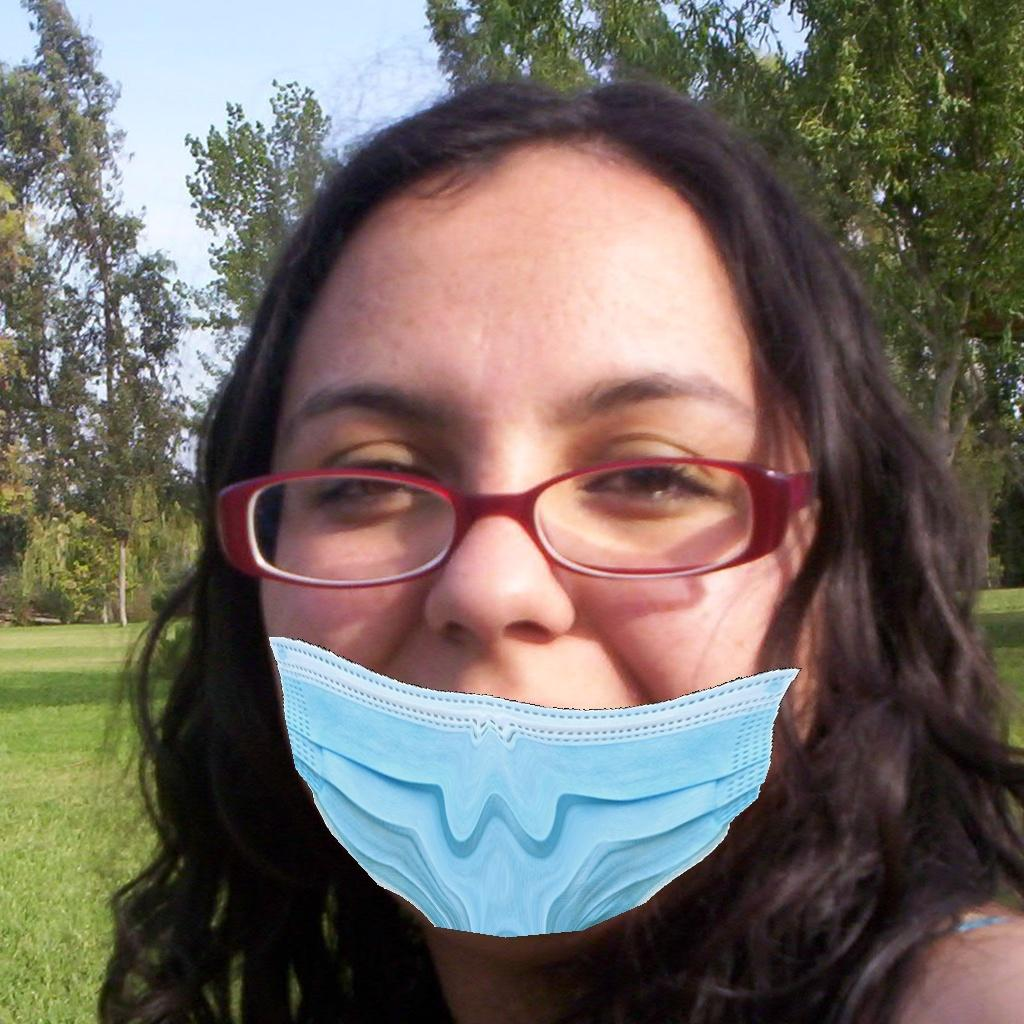Máscara Incorreta: (245, 270, 819, 916)
